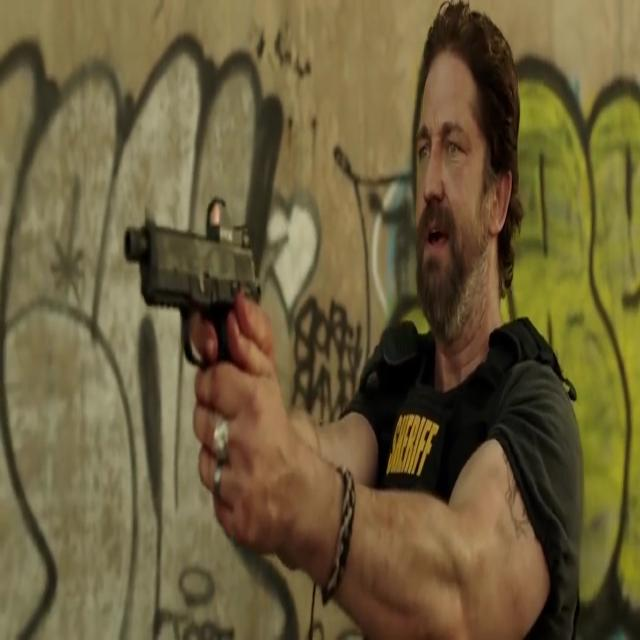Weapon: (114, 205, 282, 369)
